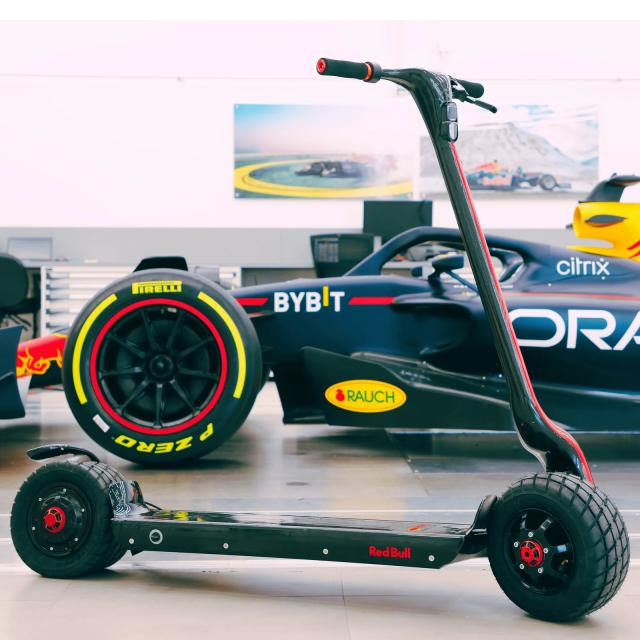Bybit: (274, 286, 344, 314)
Citrix: (556, 256, 610, 280)
Oracle: (507, 308, 640, 350)
Pirelli: (132, 281, 182, 294)
Rauch: (324, 378, 406, 412)
Red Bull: (16, 334, 68, 374), (369, 546, 411, 559), (467, 163, 498, 174), (481, 176, 512, 186), (408, 522, 430, 532)
wallmart: (460, 290, 474, 296)
